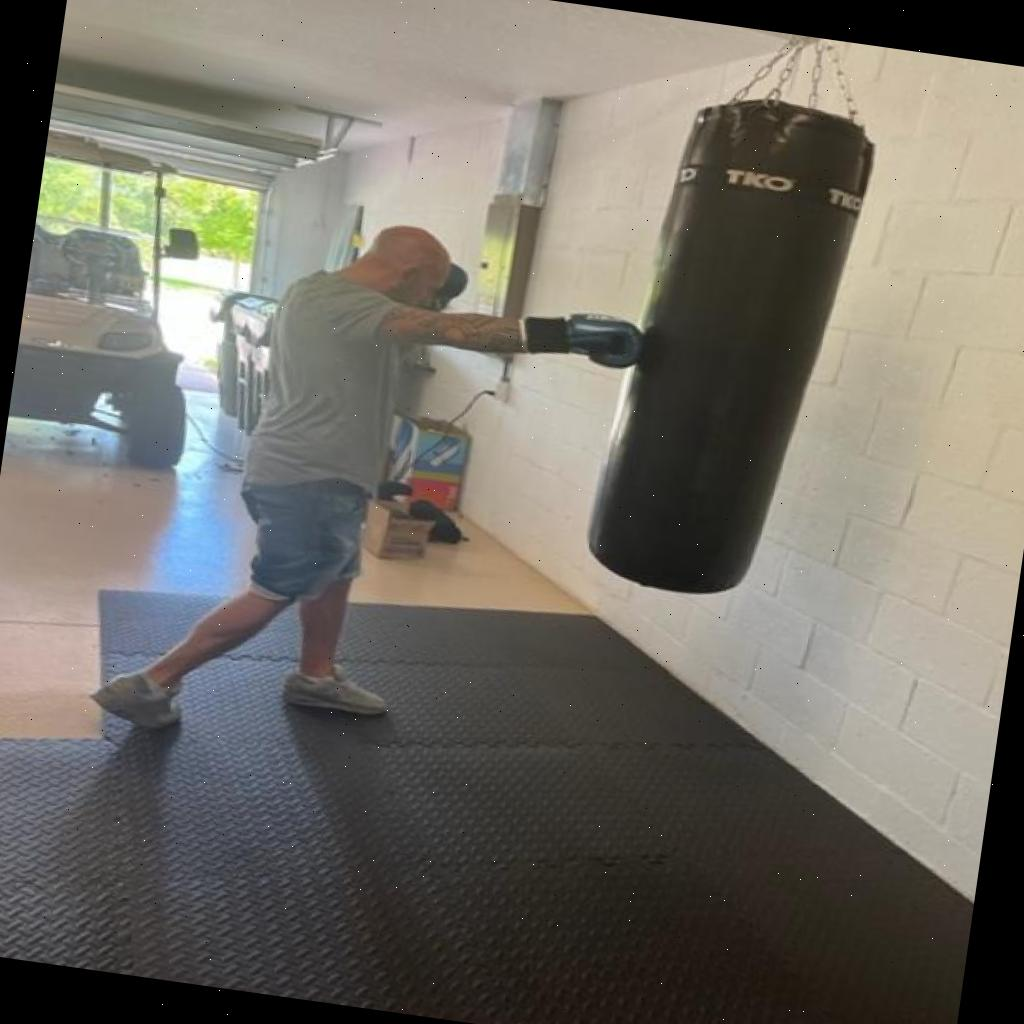cross: (258, 204, 726, 442)
